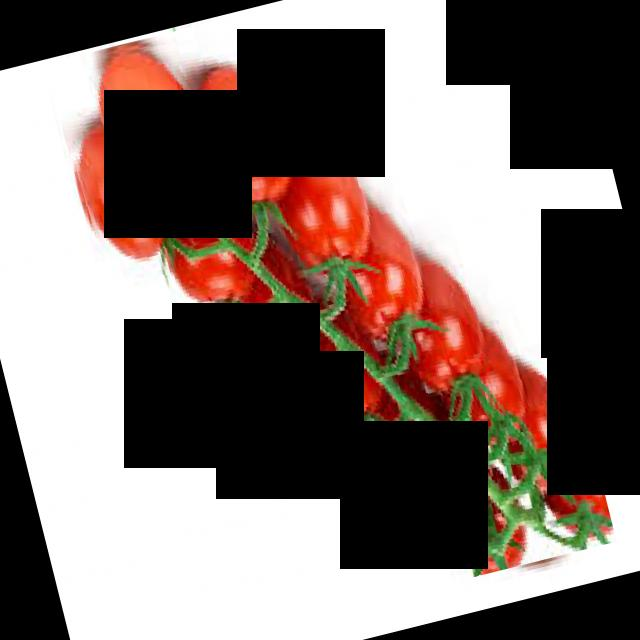tomatoes: (46, 0, 616, 640)
